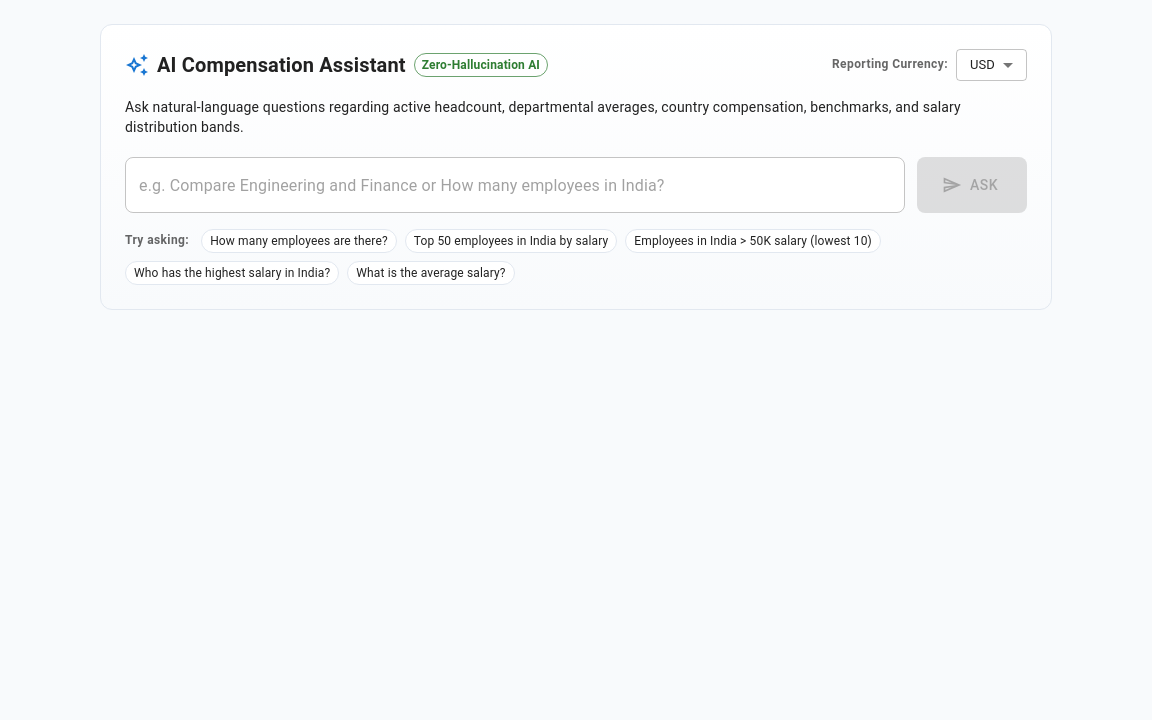
Scenario: CompensationAssistant Component › renders salary range distribution card
Type "Employees between 50k and 100k" into the field with placeholder "e.g. Compare Engineering and Finance". click: (515, 185)
box: [125,157,905,213]
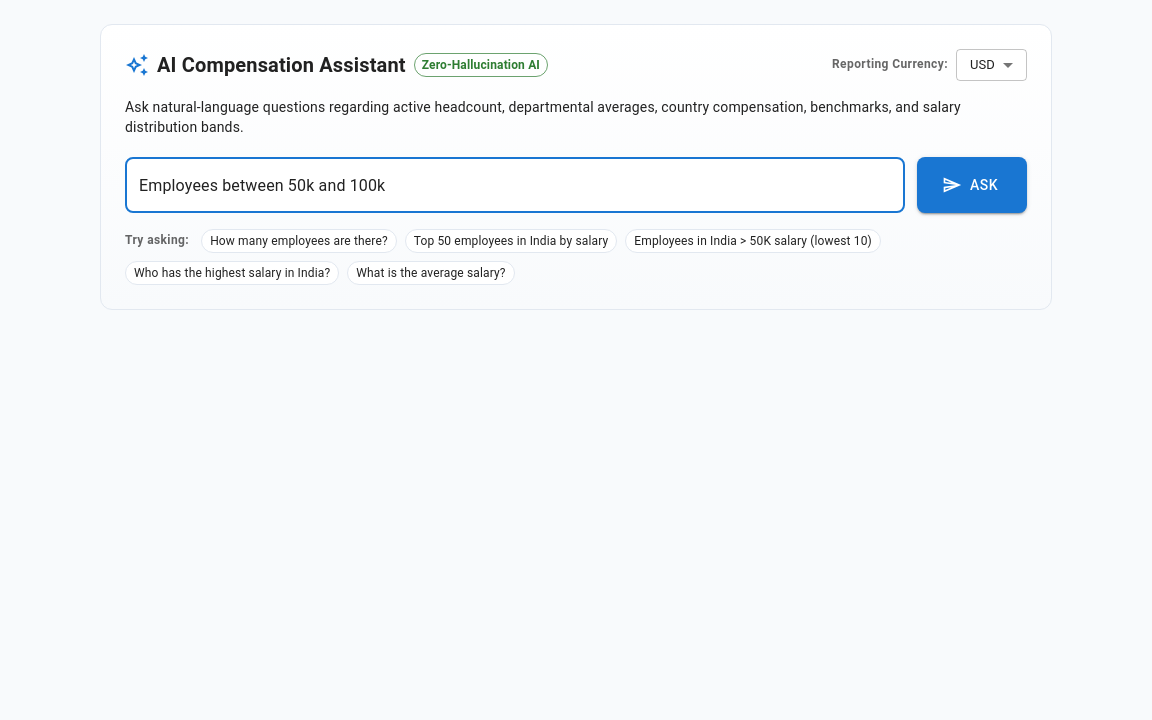
Click the button "Ask". click: click(972, 185)
box: [917,157,1027,213]
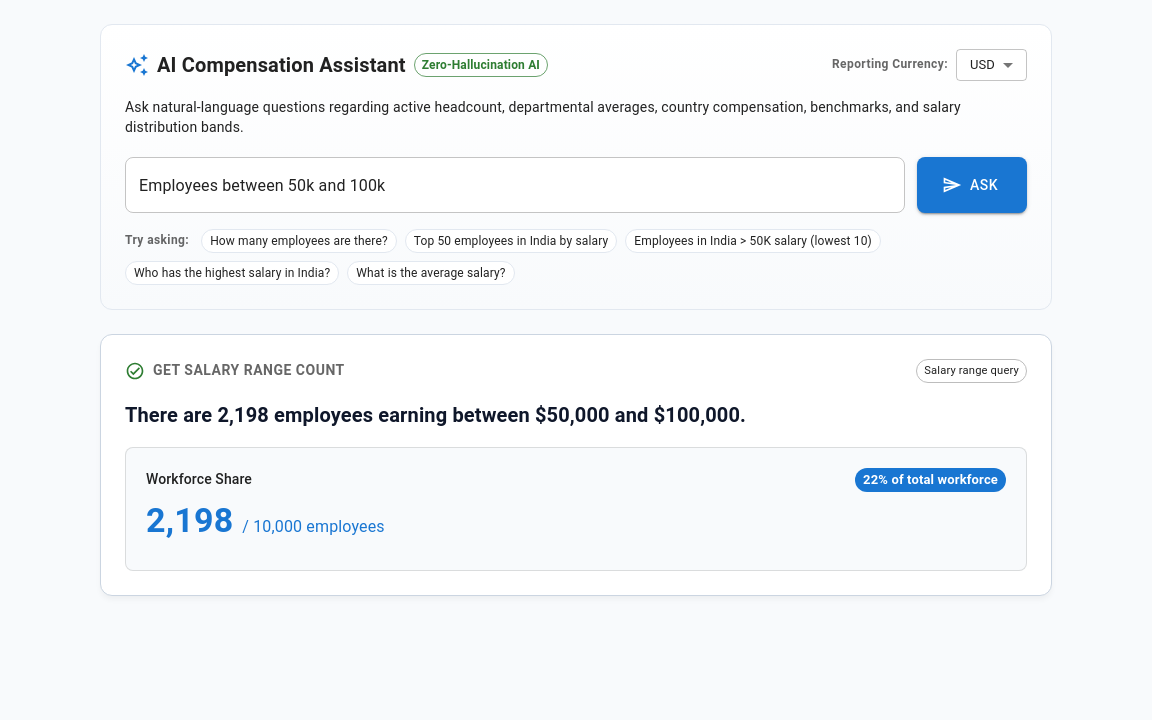
Result: the heading "Workforce Share" is shown at [146,469,252,491]
Result: the text "22% of total workforce" is shown at [855,470,1006,490]
